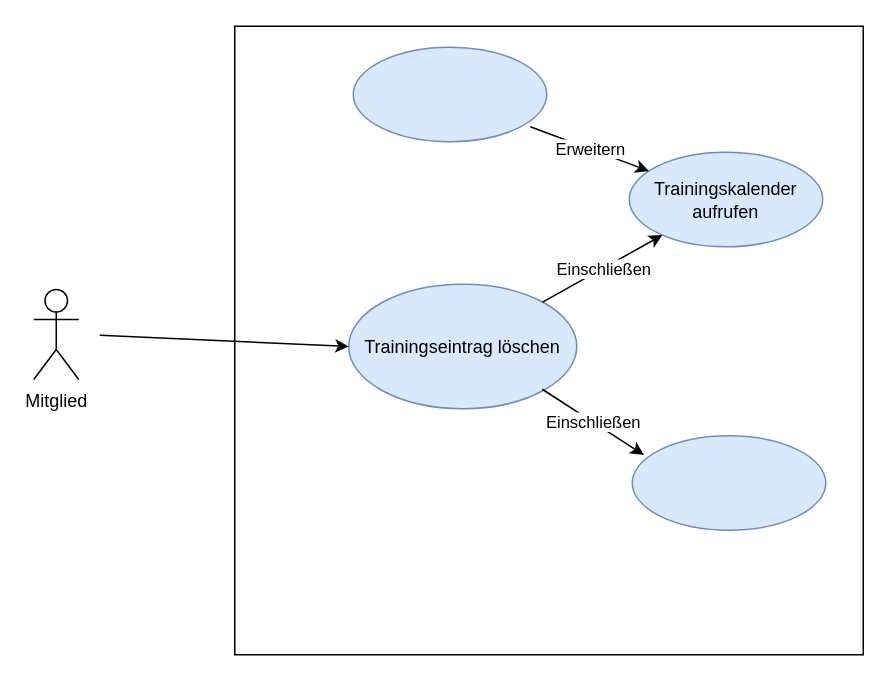
Image size: 890x681. Some labels were removed from this diagram. The shapes that lost their labels are listed below. From the top down, each one's centre as x and y in pixels, then its label:
At point 449,94: "Einloggen".
At point 728,482: "Trainingseintrag Wählen".
